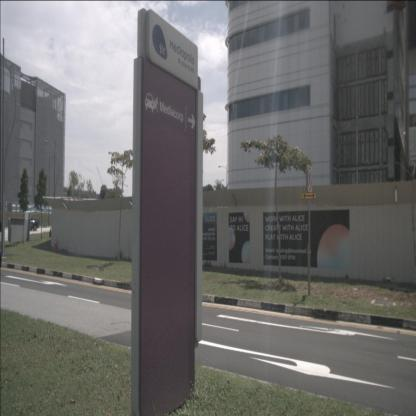movable_object-trafficcone: (52, 236, 58, 250), (49, 228, 51, 237)
vehicle-car: (22, 218, 40, 231)
